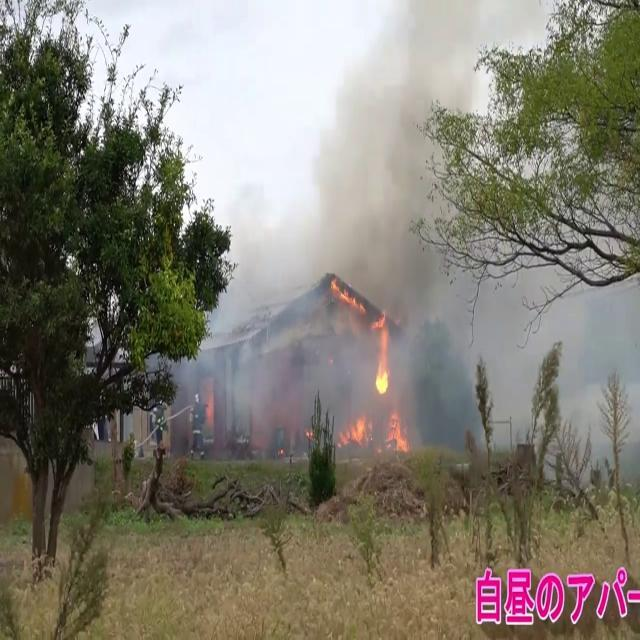Fire: (372, 303, 392, 402), (338, 406, 370, 452)
Smoke: (193, 8, 474, 460), (194, 257, 456, 458)
